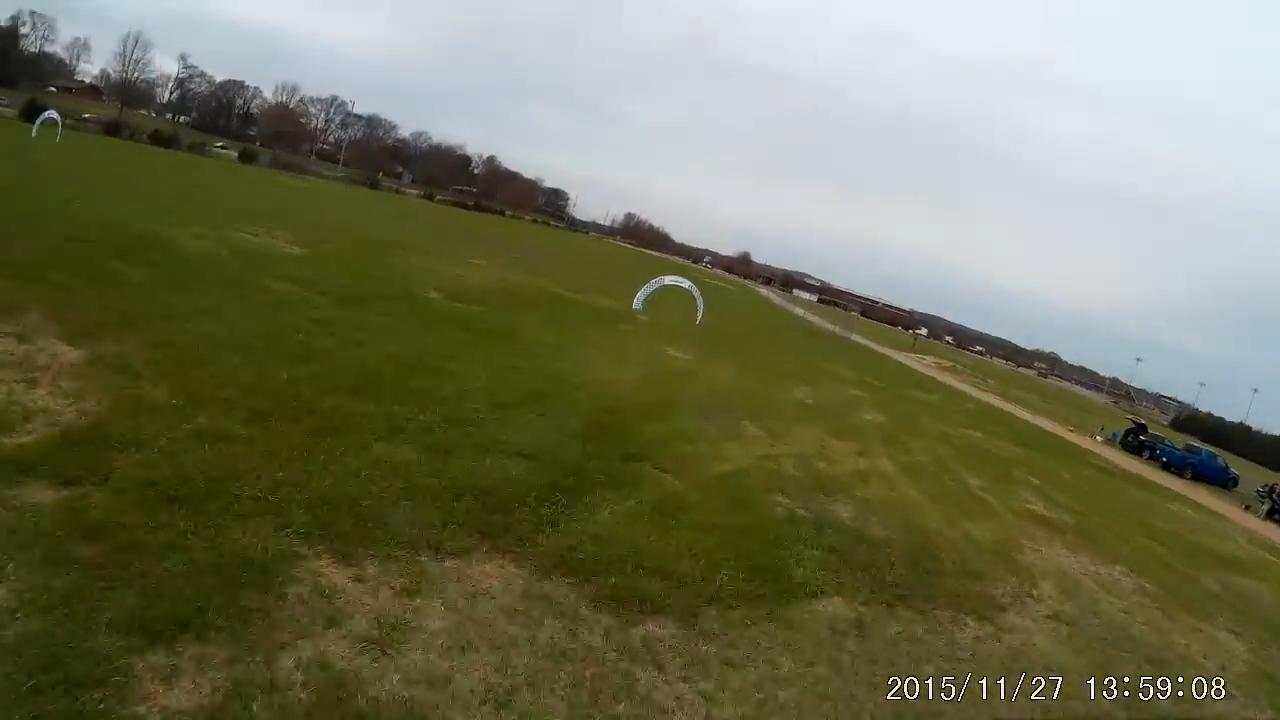gate: (632, 273, 705, 325)
